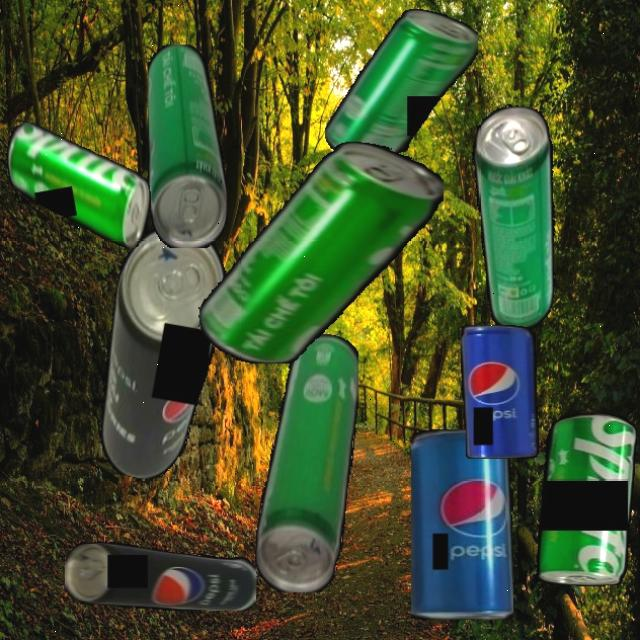debris: (198, 140, 444, 364), (86, 221, 235, 487), (444, 100, 584, 335), (254, 333, 359, 592), (1, 104, 159, 268), (325, 8, 478, 161), (505, 412, 637, 586), (410, 429, 514, 620), (147, 44, 227, 248), (65, 540, 256, 610), (461, 324, 538, 459)
